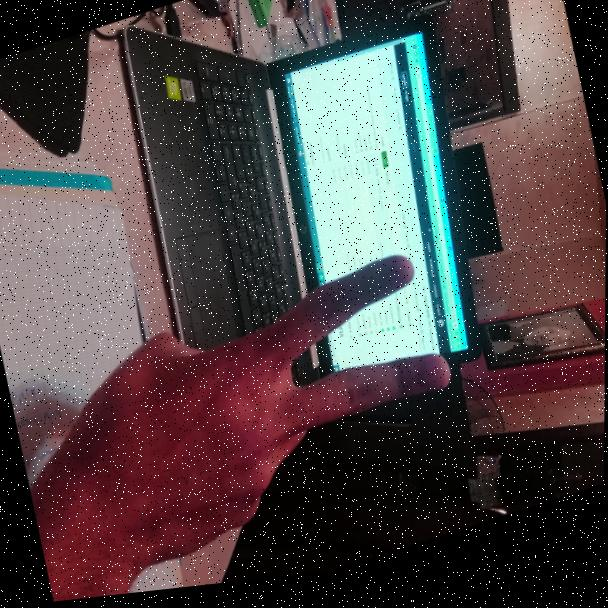two: (47, 232, 479, 587)
